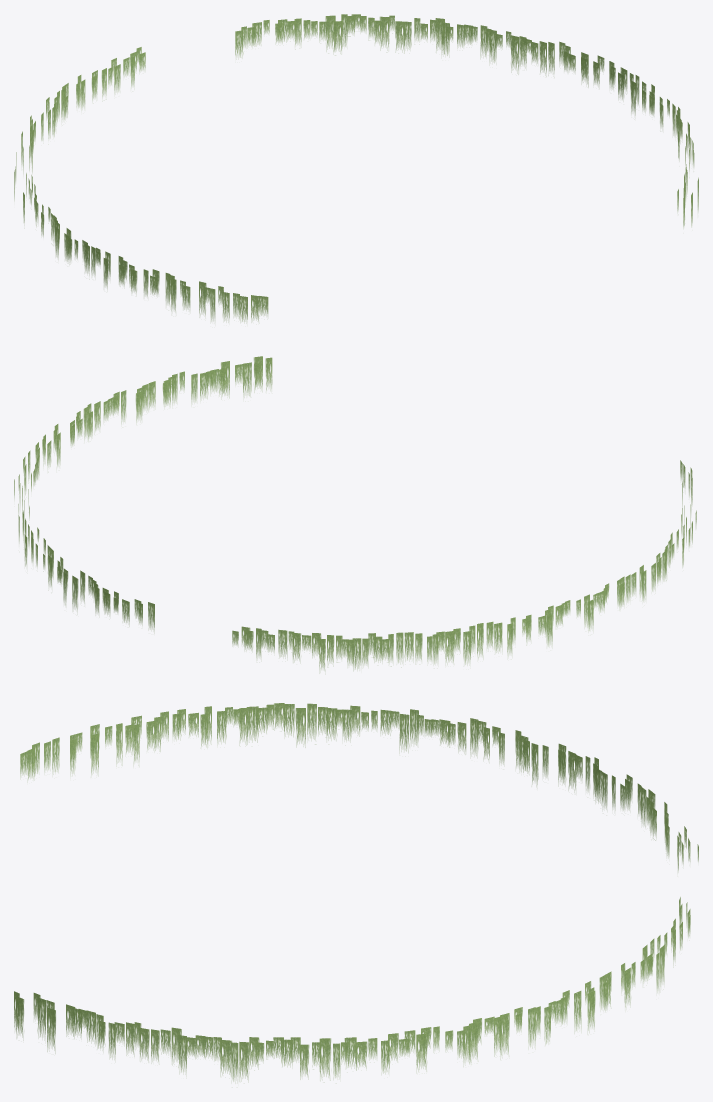
Rendered from mwm_mossdrape.glb.
3 renders of one model, top to bottom at view 1: azimuth 30°, elevation 25°; view 2: azimuth 150°, elevation 25°; view 3: azimuth 270°, elevation 25°, orthographic. The views are drawn at different scales.
Size of the model in its own units: 144 by 8.97 by 122.
Materials: 1 (1 with a texture image).
